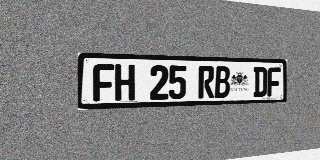2: (150, 65, 169, 100)
5: (169, 65, 186, 99)
B: (215, 66, 230, 98)
D: (253, 67, 267, 97)
F: (93, 64, 114, 102), (267, 67, 281, 97)
H: (115, 64, 135, 101)
R: (198, 66, 214, 99)
